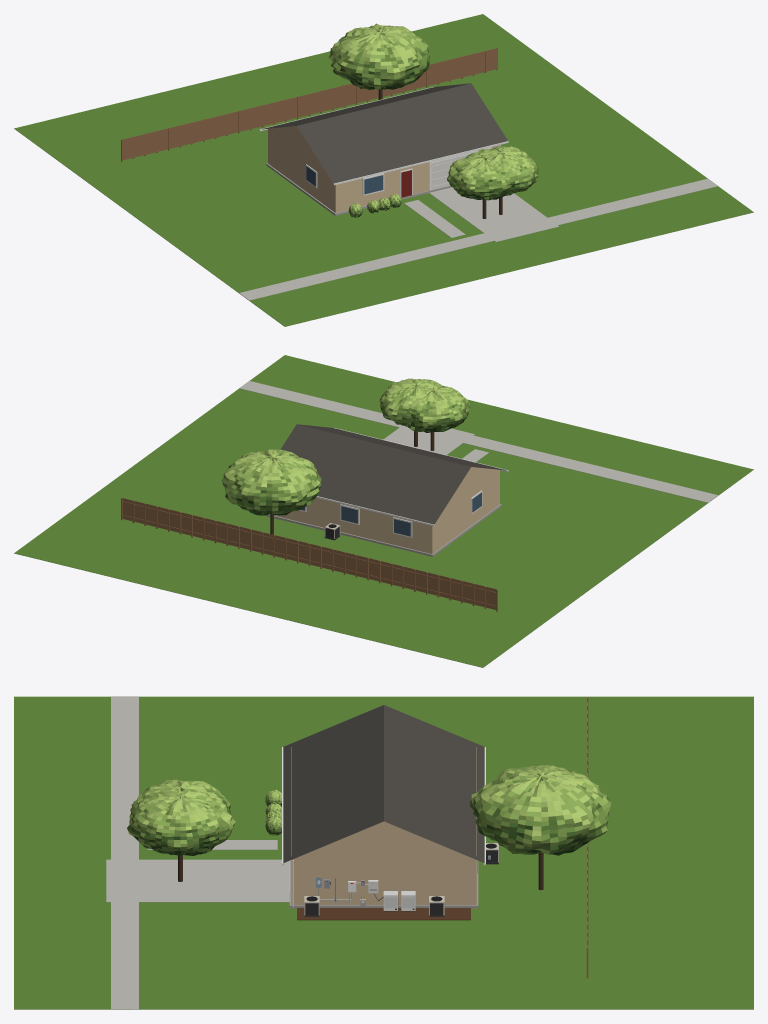
Rendered from home_12_post_install.obj.
3 renders of one model, top to bottom at view 1: azimuth 30°, elevation 25°; view 2: azimuth 150°, elevation 25°; view 3: azimuth 270°, elevation 25°, orthographic. The views are drawn at different scales.
Parts seen in each view (by area): view 1: yard, house, tree_2, tree_3, tree_1; view 2: yard, house, tree_2, tree_3, tree_1; view 3: yard, house, tree_2, tree_1, mulch_bed_side, tree_3.
Part boxes in pixels (x1,y1,x2,y2): yard: [14, 14, 753, 326]; house: [259, 83, 508, 215]; tree_2: [328, 23, 429, 99]; tree_3: [447, 151, 512, 218]; tree_1: [478, 146, 538, 214]; yard: [14, 355, 753, 667]; house: [266, 424, 508, 556]; tree_2: [222, 449, 321, 534]; tree_3: [406, 385, 470, 450]; tree_1: [379, 378, 442, 446]; yard: [14, 696, 753, 1009]; house: [282, 705, 485, 908]; tree_2: [469, 765, 611, 890]; tree_1: [127, 789, 235, 881]; mulch_bed_side: [297, 908, 470, 920]; tree_3: [130, 779, 230, 814].
Bounding box in the file's own units: 40 × 6.83 × 40.
